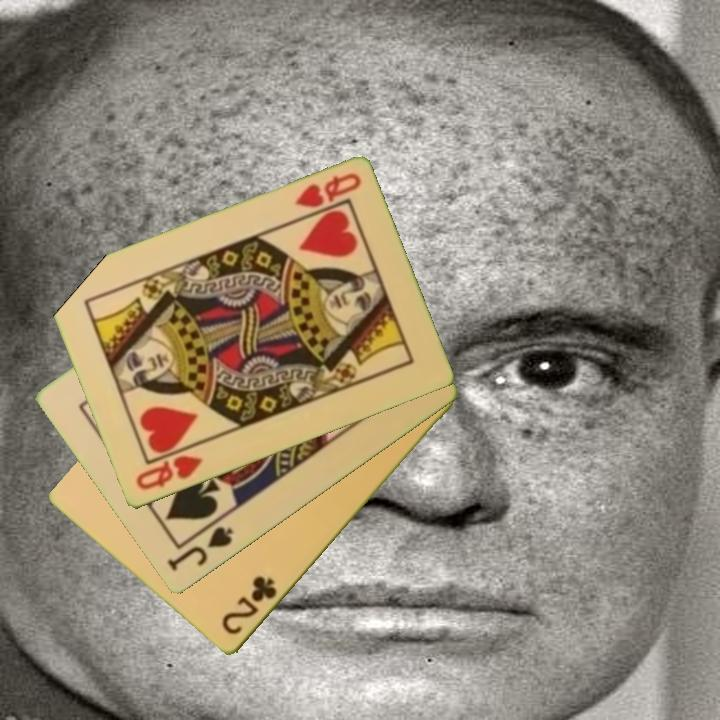2c: (218, 573, 280, 639)
Js: (163, 523, 237, 574)
Qh: (132, 452, 205, 494), (291, 170, 364, 212)
